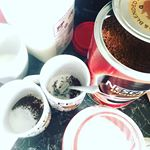cups: (25, 53, 95, 113), (1, 78, 54, 138)
